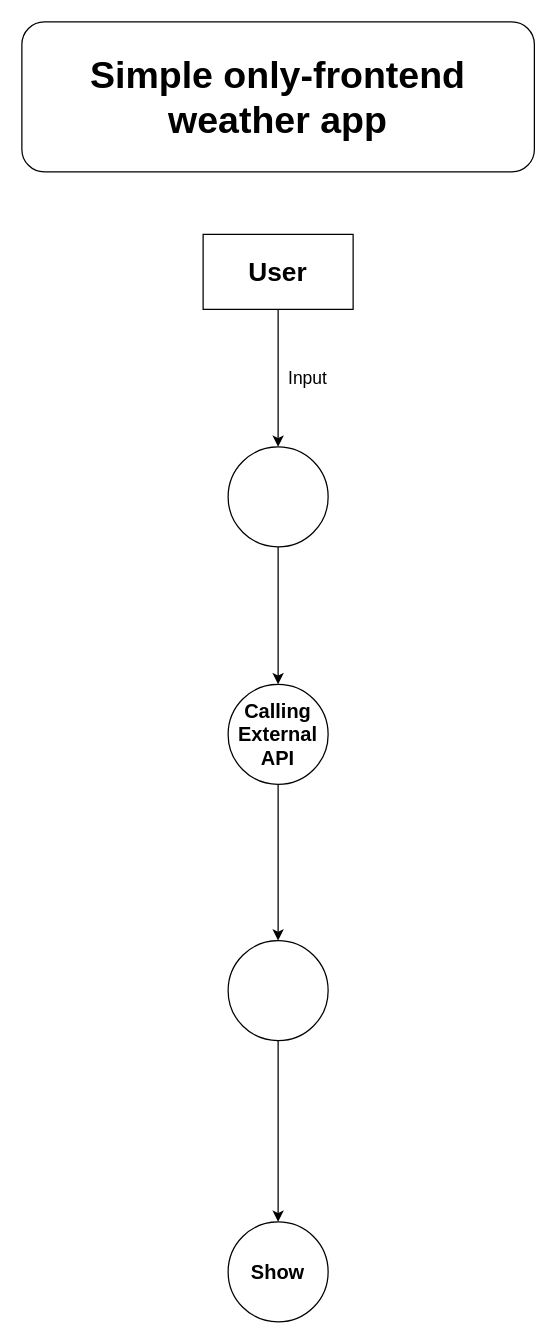
Image size: 556x1344. Some labels were removed from this diagram. Each missing label, with the box of its shape:
location: (227, 446, 328, 547)
Return DATA: (227, 939, 328, 1041)
